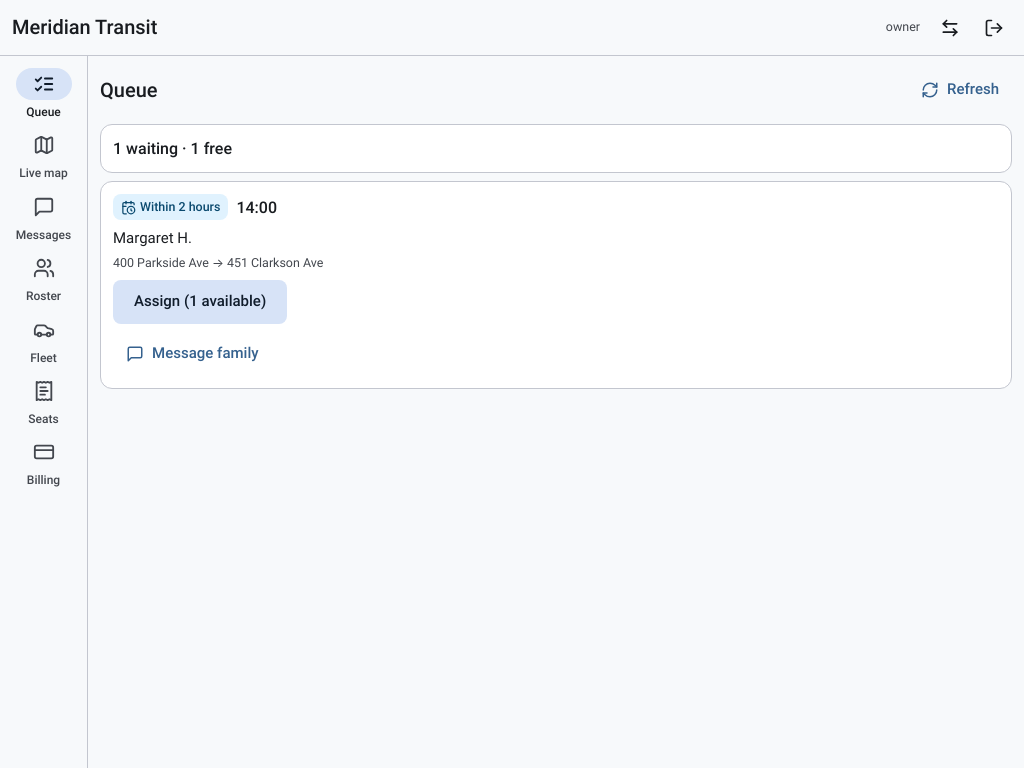
it: the queue › assigns, keyed against a double click, and refreshes the queue and roster
The width and height of the screenshot is (1024, 768).
Click the button "Assign (1 available)".
click(200, 302)  # box [113,280,287,324]
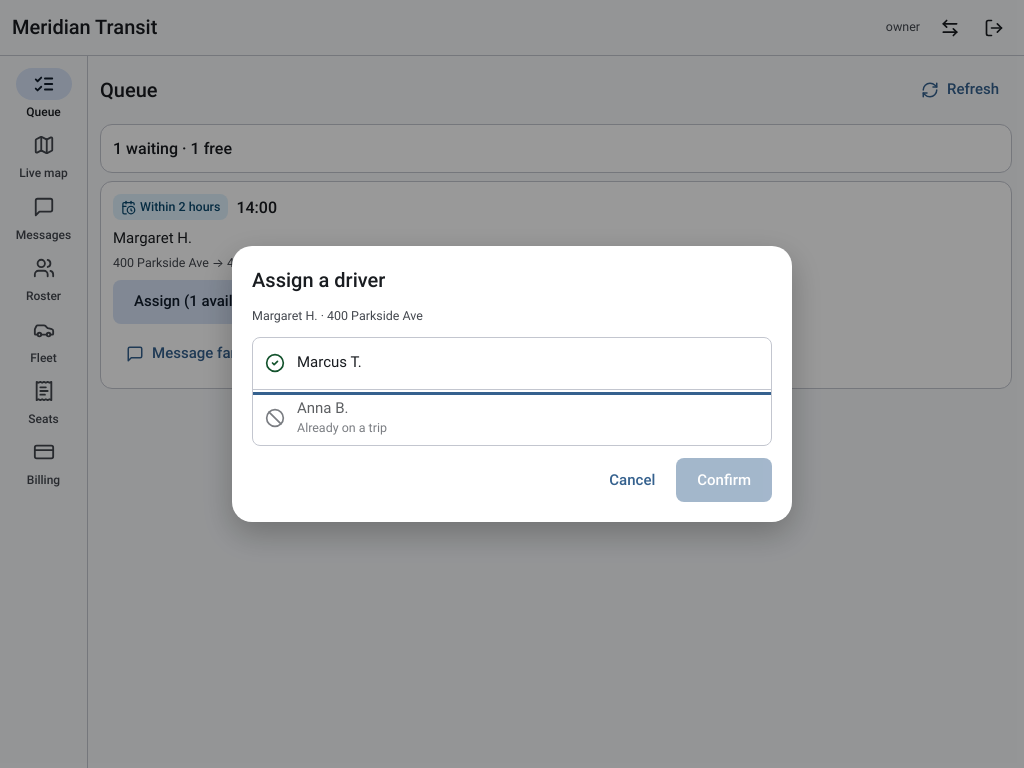
Expected: the radio button labelled "Anna B. Already on a trip" is disabled, [253,390,771,445]
Expected: the text "Already on a trip" is shown, [297,420,387,435]
Expected: the button "Confirm" is disabled, [676,458,772,502]
Click the radio button labelled "Marcus T.".
click(329, 362)  # box [253,338,771,390]
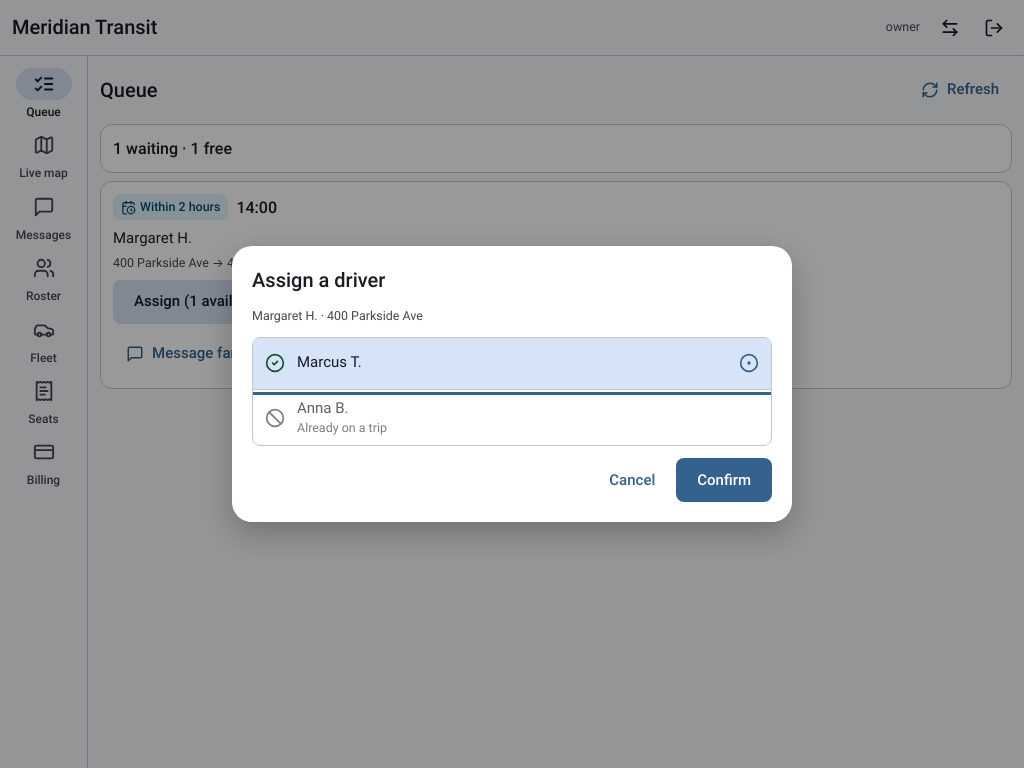
Click the button "Confirm".
click(724, 480)  # box [676,458,772,502]
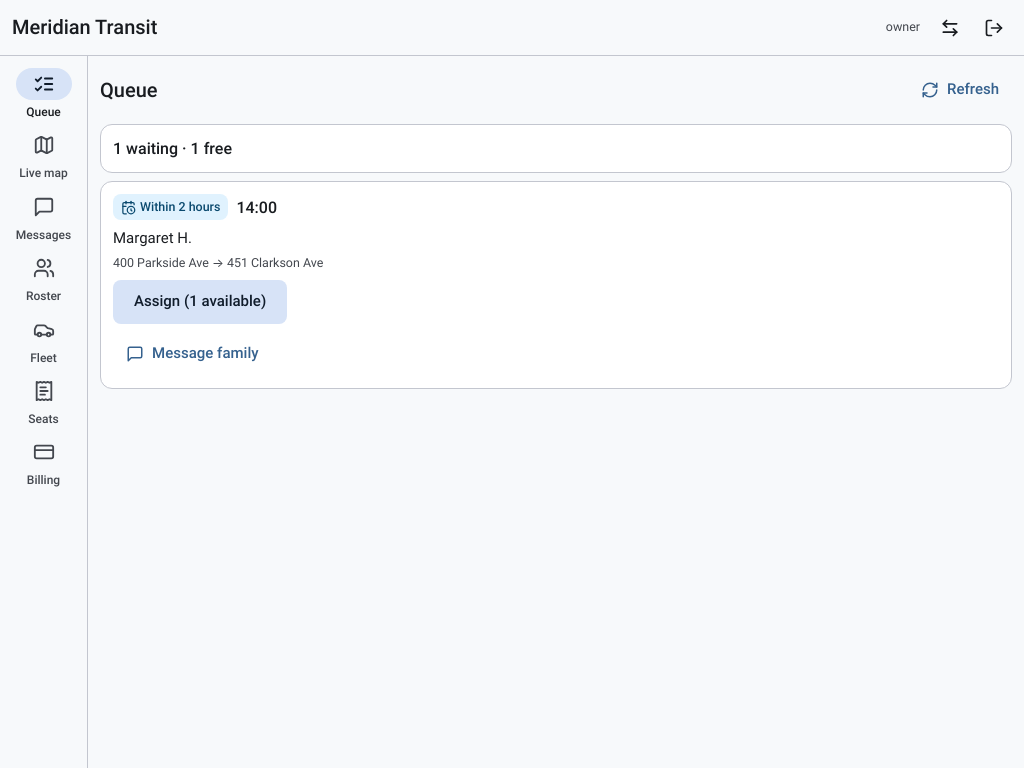
Expected: the dialog is gone
